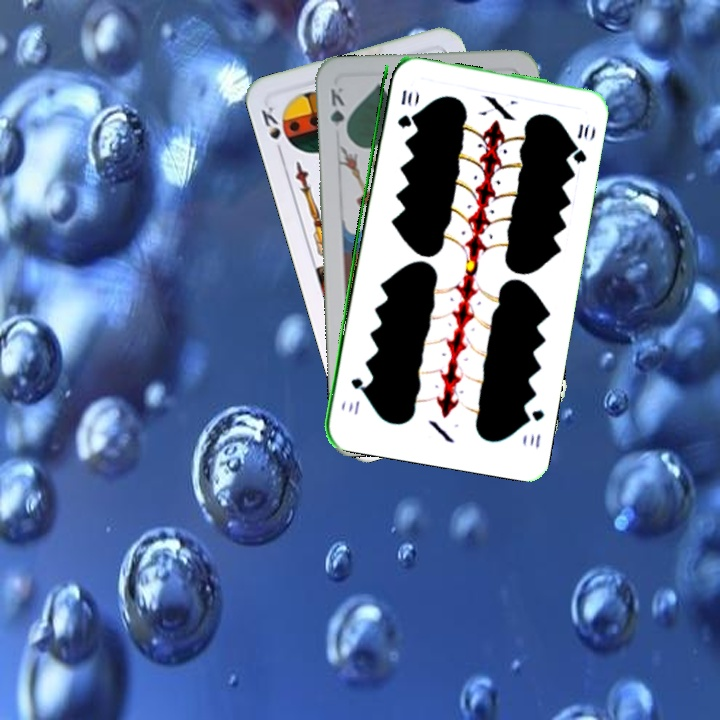G10: (519, 405, 547, 451), (393, 86, 415, 131)
GK: (326, 83, 350, 140)
SK: (257, 102, 286, 159)
